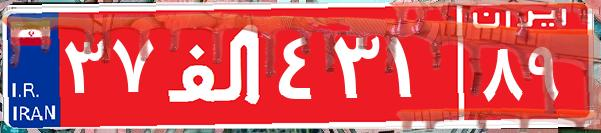1: (385, 28, 445, 110)
3: (330, 28, 385, 110), (57, 26, 110, 107)
4: (273, 28, 330, 110)
7: (110, 28, 158, 105)
8: (475, 38, 525, 113)
9: (525, 38, 570, 115)
الف: (158, 15, 273, 115)
